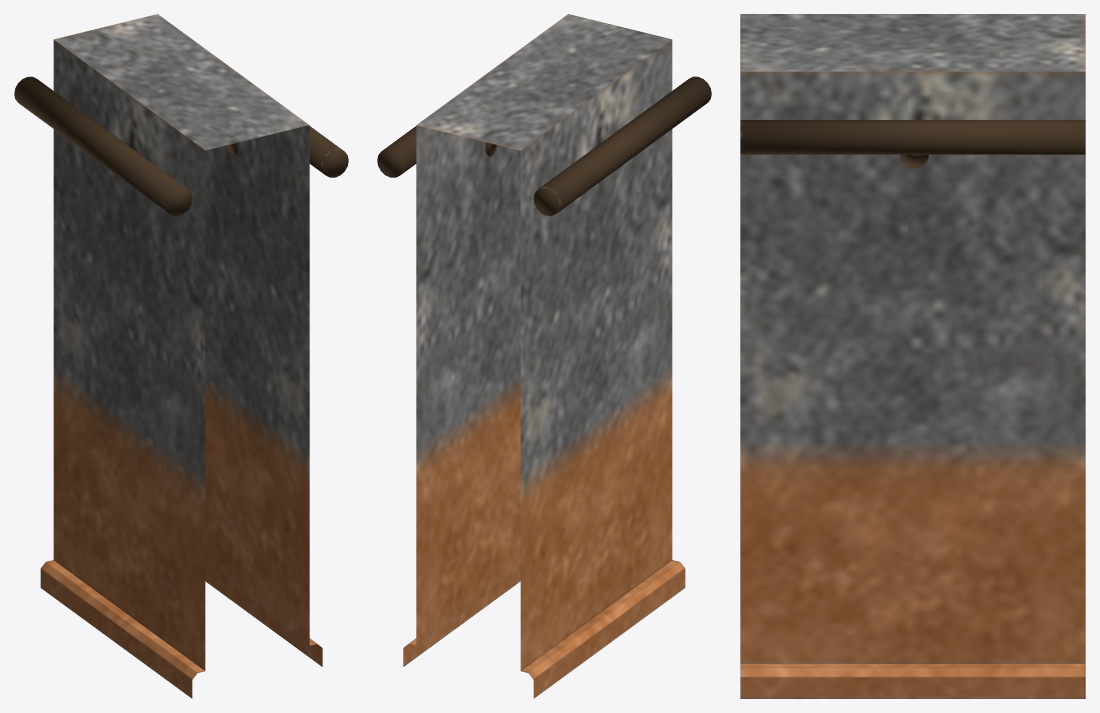
The model's file is wall_with_railing.fbx.
The picture shows the model from 3 angles, left to right: view 1: azimuth 30°, elevation 25°; view 2: azimuth 150°, elevation 25°; view 3: azimuth 270°, elevation 25°; orthographic projection. The views are drawn at different scales.
Parts seen in each view (by area): view 1: Bake; view 2: Bake; view 3: Bake.
Boxes of the visible parts, bbox=[...] form: Bake: bbox=[14, 14, 348, 698]; Bake: bbox=[377, 14, 711, 698]; Bake: bbox=[740, 14, 1085, 698].
Size of the model in its own units: 1.01 by 2 by 0.7018.
1 material, 1 textured.
